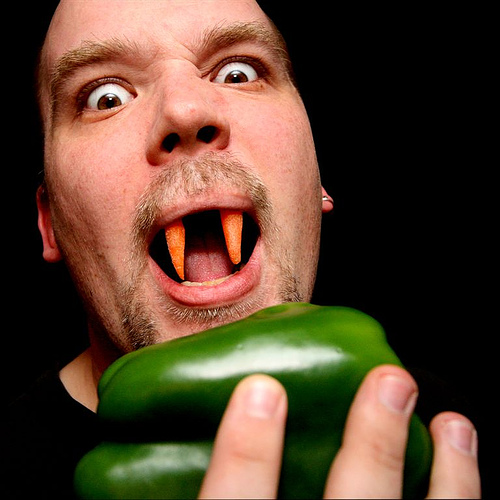capsicum: (76, 301, 432, 498)
